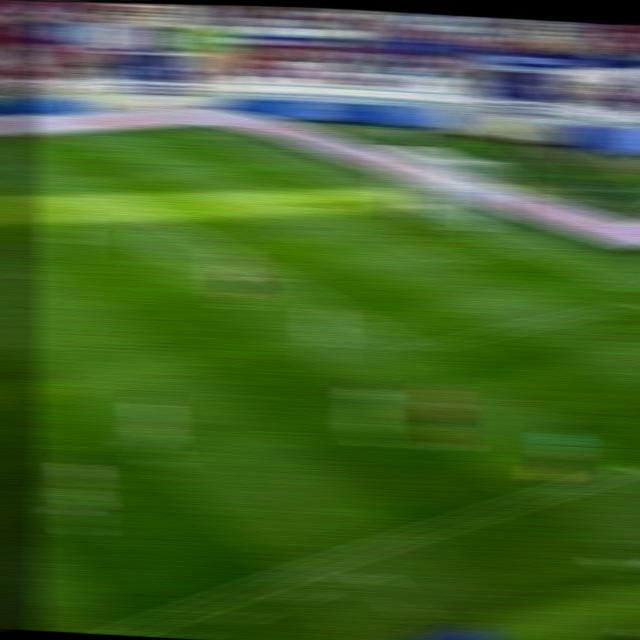bigarea_bottom_inner: (399, 334, 438, 358)
bigarea_top_inner: (72, 170, 108, 189)
bigarea_top_outter: (257, 154, 291, 169)
bottom_arc_area_intersection: (260, 267, 295, 285)
corner: (179, 126, 216, 140)
smallarea_bottom_inner: (431, 250, 467, 270)
smallarea_bottom_outter: (497, 238, 535, 258)
smallarea_top_inner: (276, 190, 315, 207)
smallarea_top_outter: (333, 181, 368, 197)
top_arc_area_intersection: (146, 210, 180, 227)
